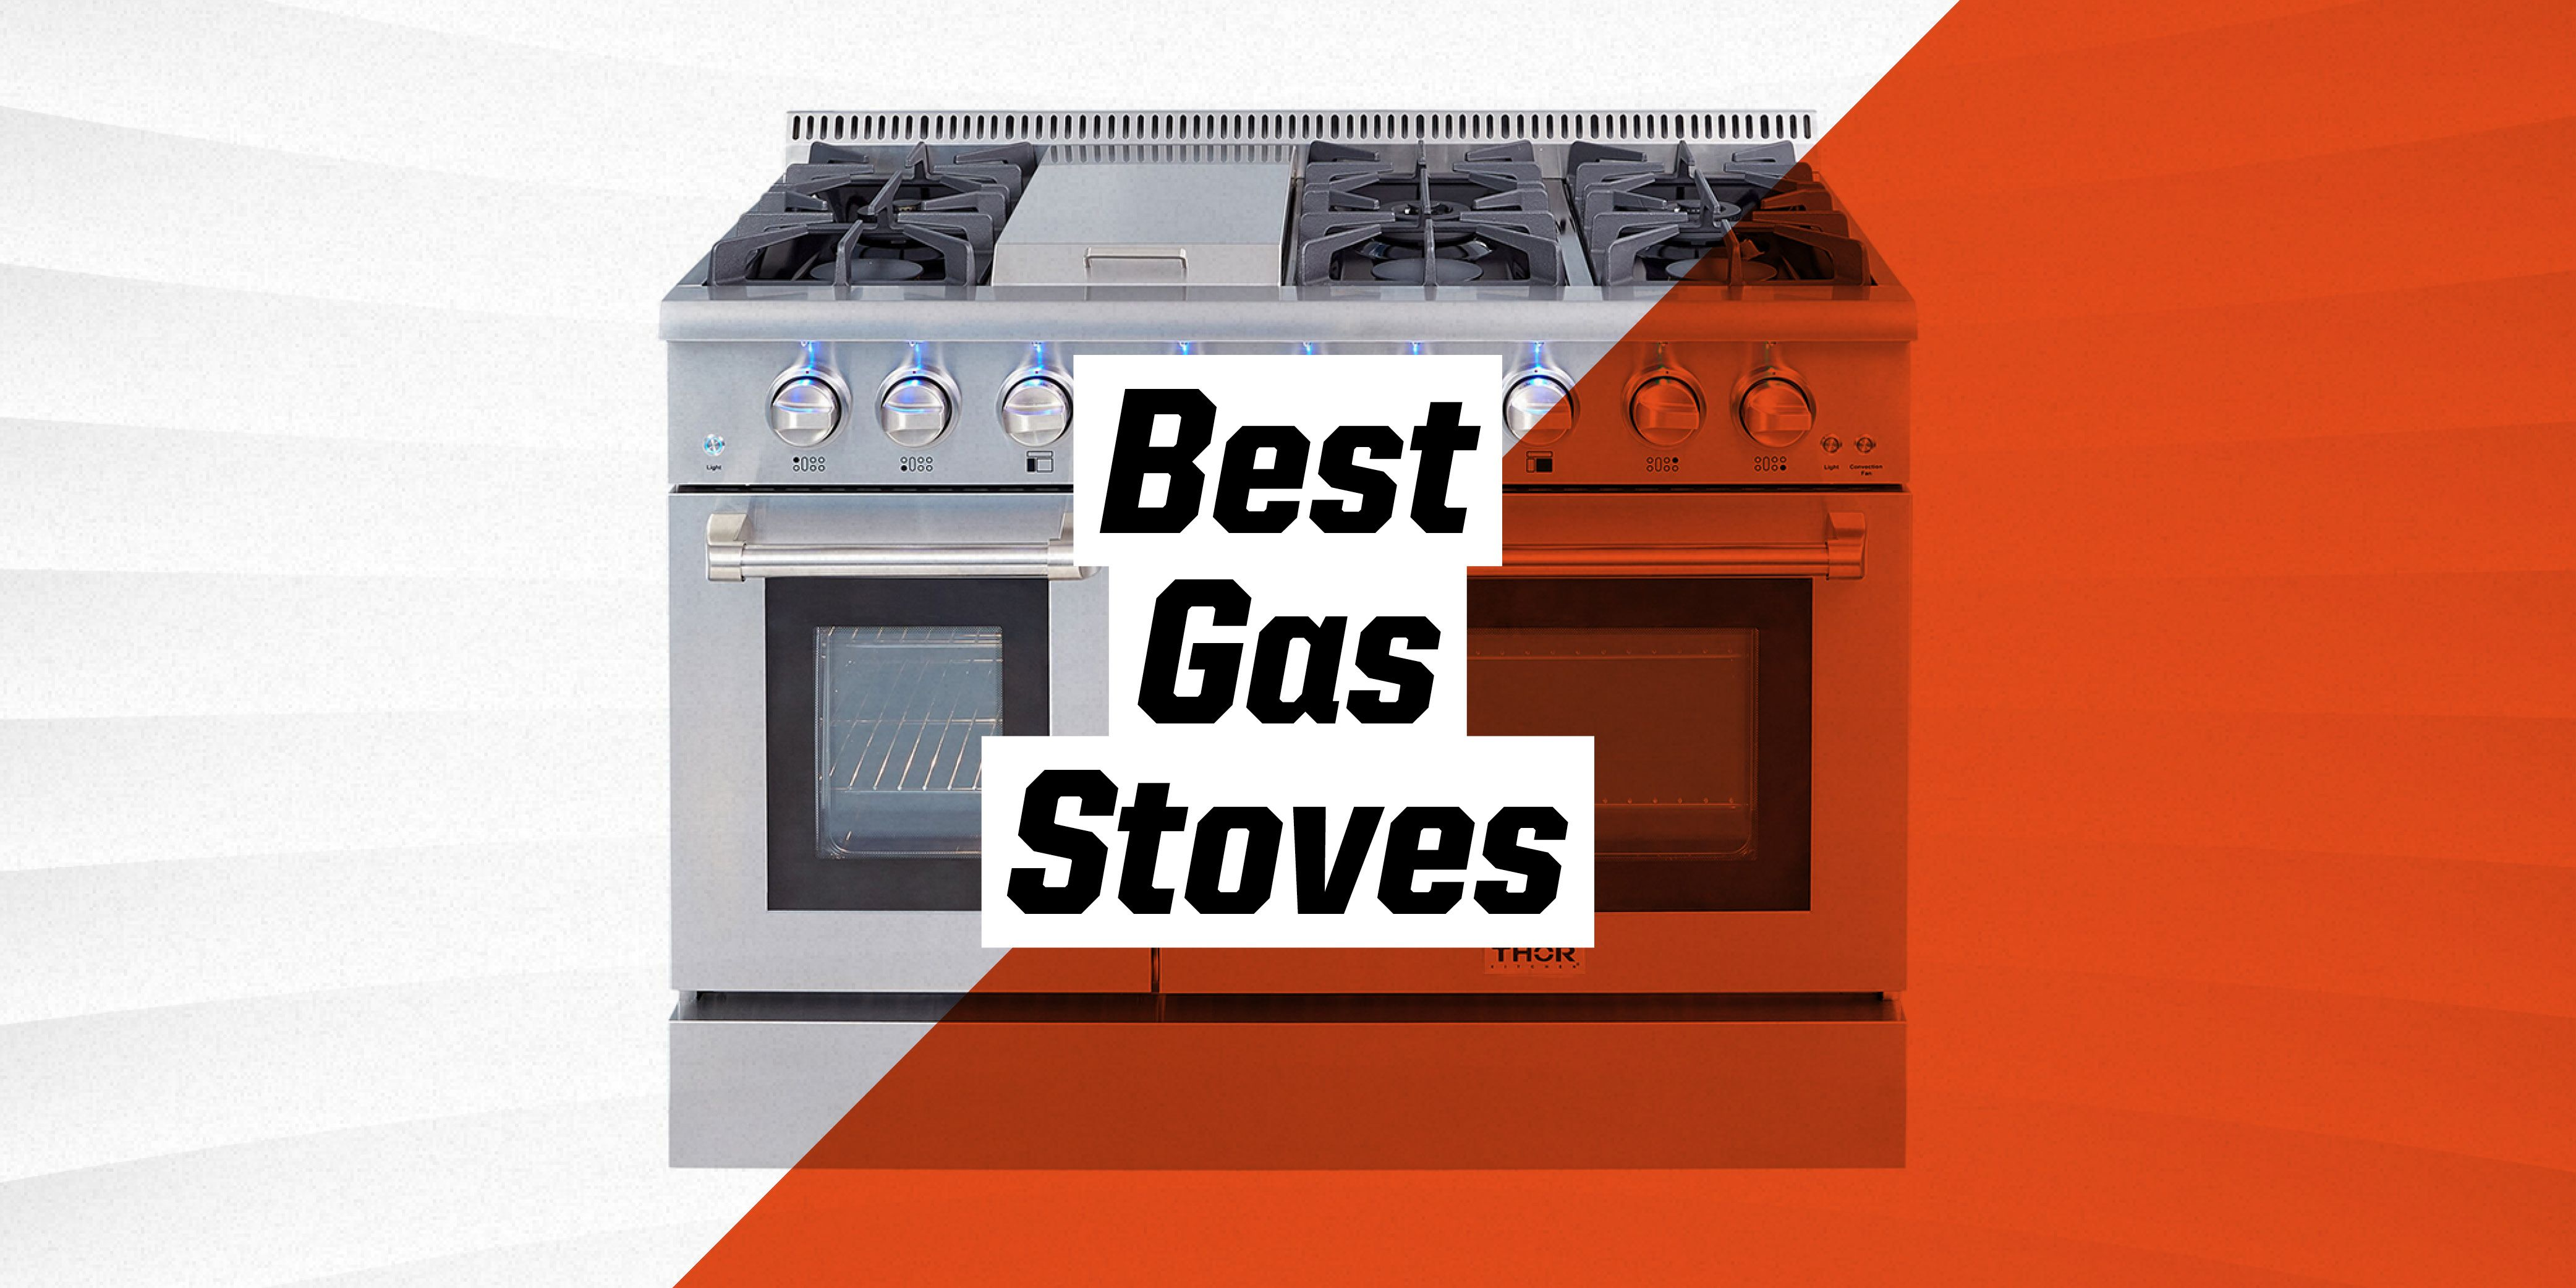stove: (614, 38, 1948, 1155)
